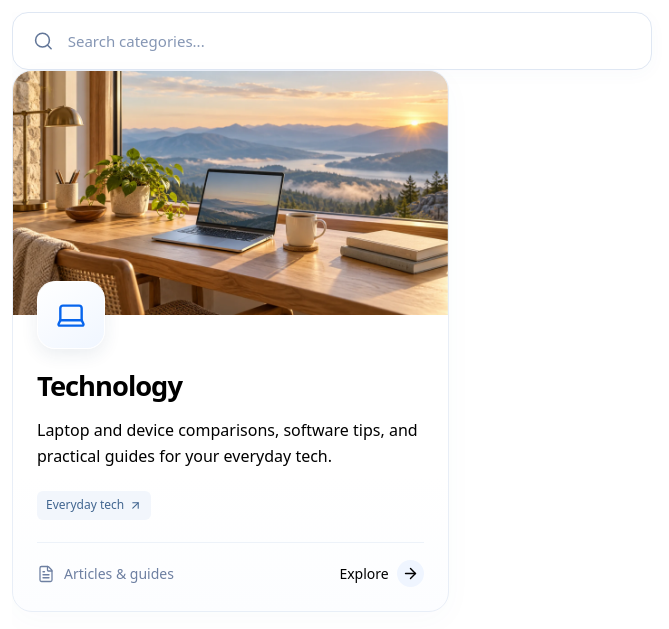
Test: discovery and reading refinements › searches nested categories and restores the root directory
This screenshot has width=669, height=629.
Type "everyday" into the search field labelled "Search categories" at (349, 41), box [68,16,631,66]
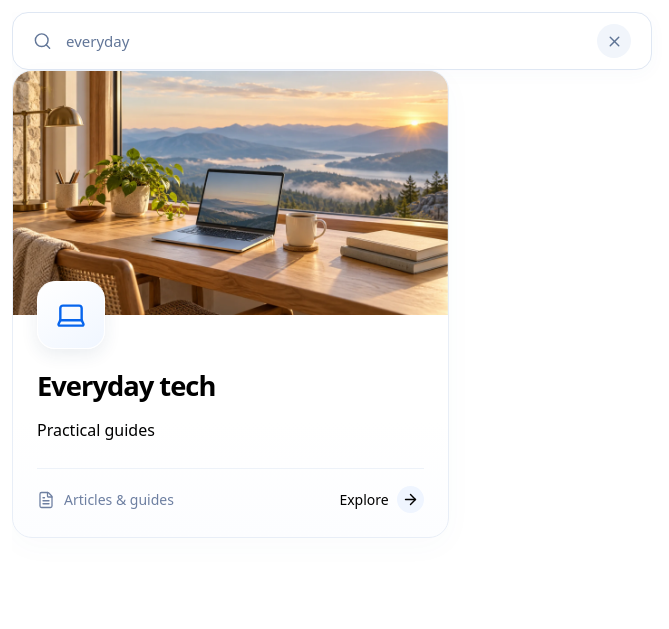
Now the heading "Everyday tech" is shown, box [37,368,215,404]
Now the link "Technology" is gone
Clear the search field named "Search categories" at (324, 41), box [66,16,583,66]
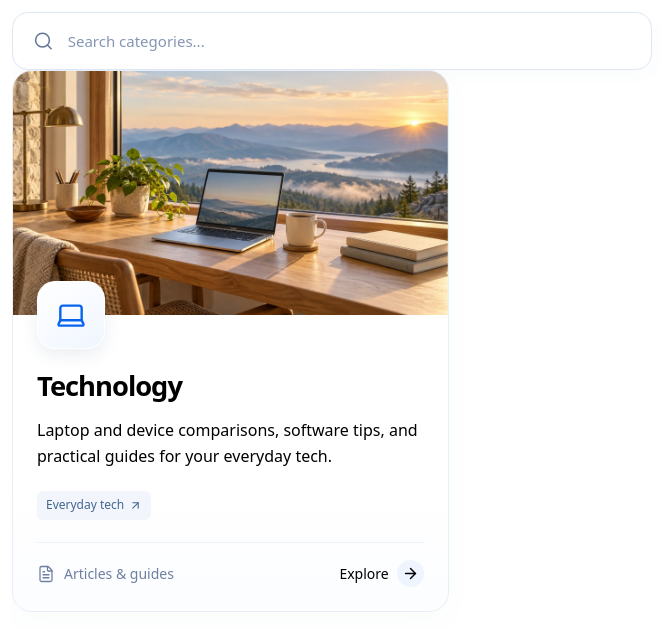
Now the heading "Technology" is shown, box [37,368,182,404]
